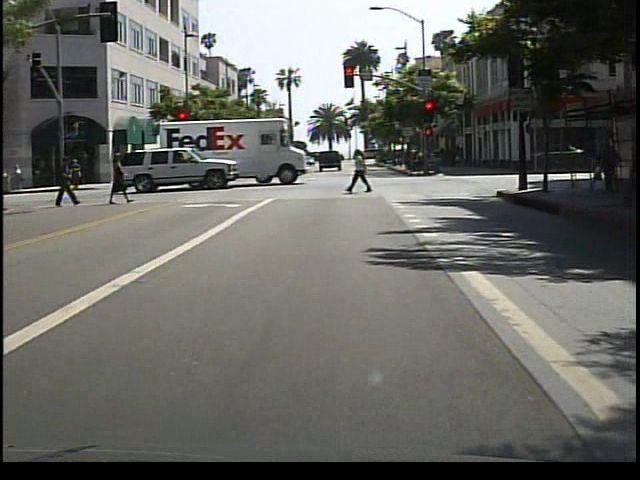person: (592, 135, 622, 198), (106, 149, 131, 209), (350, 147, 376, 196), (56, 156, 80, 208)
